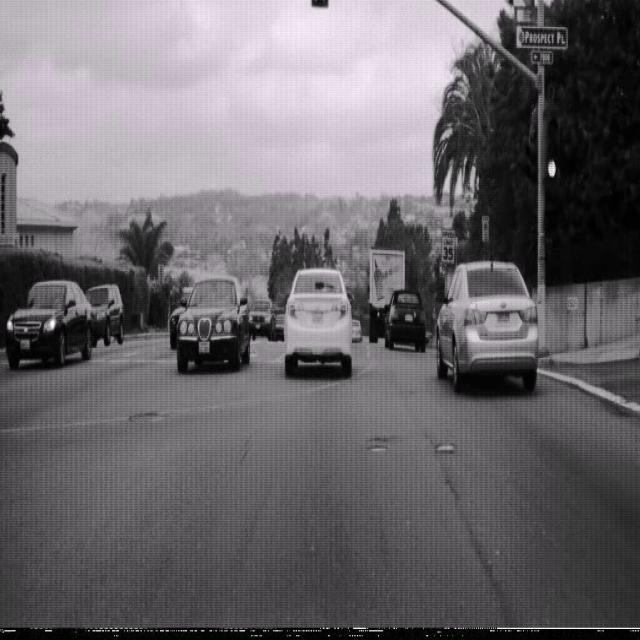speedLimit35: (439, 226, 456, 264)
